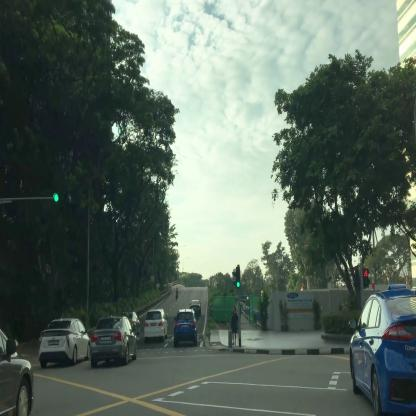green_traffic_light: (53, 192, 71, 204), (236, 265, 240, 287)
